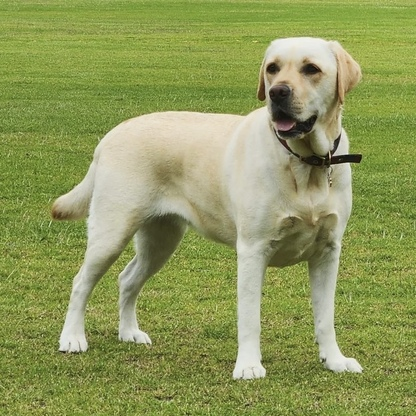labrado: (47, 33, 368, 387)
